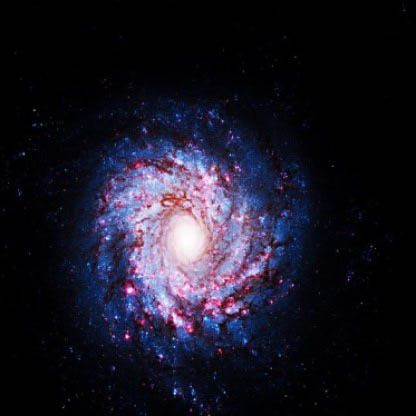NGC 3982: (75, 110, 324, 371)
